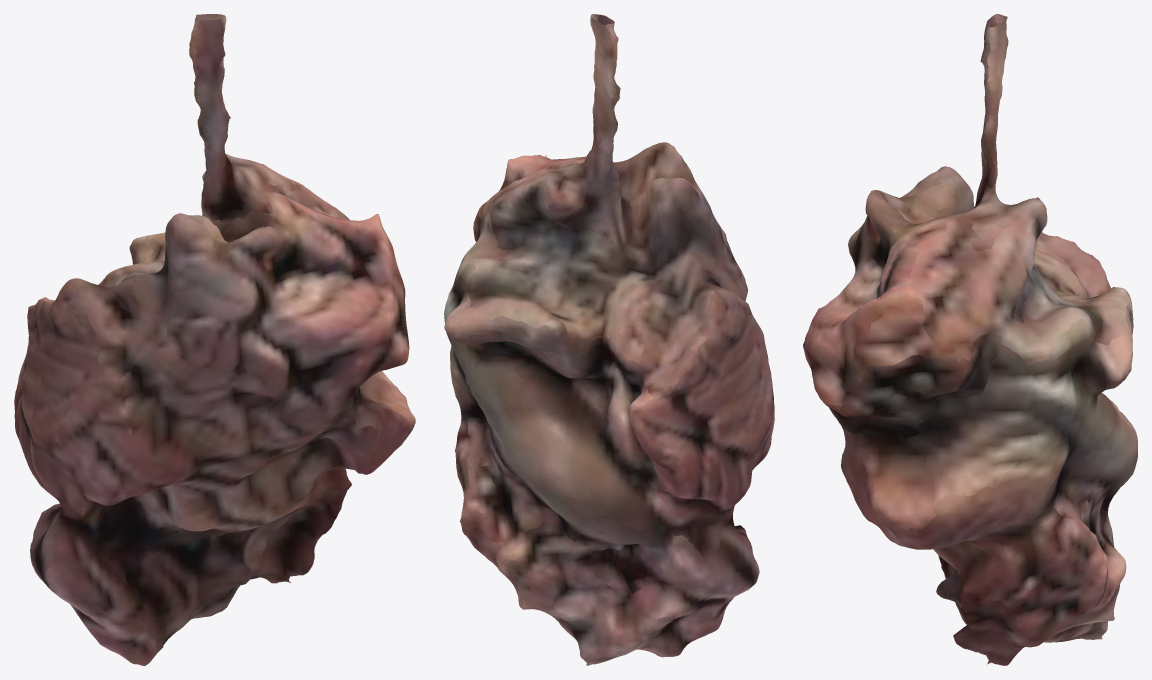
Rendered from porc1.glb.
3 views of the same model, side by side, from view 1: azimuth 30°, elevation 25°; view 2: azimuth 150°, elevation 25°; view 3: azimuth 270°, elevation 25° (orthographic). The views are drawn at different scales.
Visible parts, largest first — view 1: Object_2; view 2: Object_2; view 3: Object_2.
Boxes of the visible parts, bbox=[...] form: Object_2: bbox=[14, 14, 415, 665]; Object_2: bbox=[444, 14, 774, 665]; Object_2: bbox=[803, 14, 1137, 665].
Size of the model in its own units: 0.0552 by 0.0989 by 0.0465.
1 material, 1 textured.
